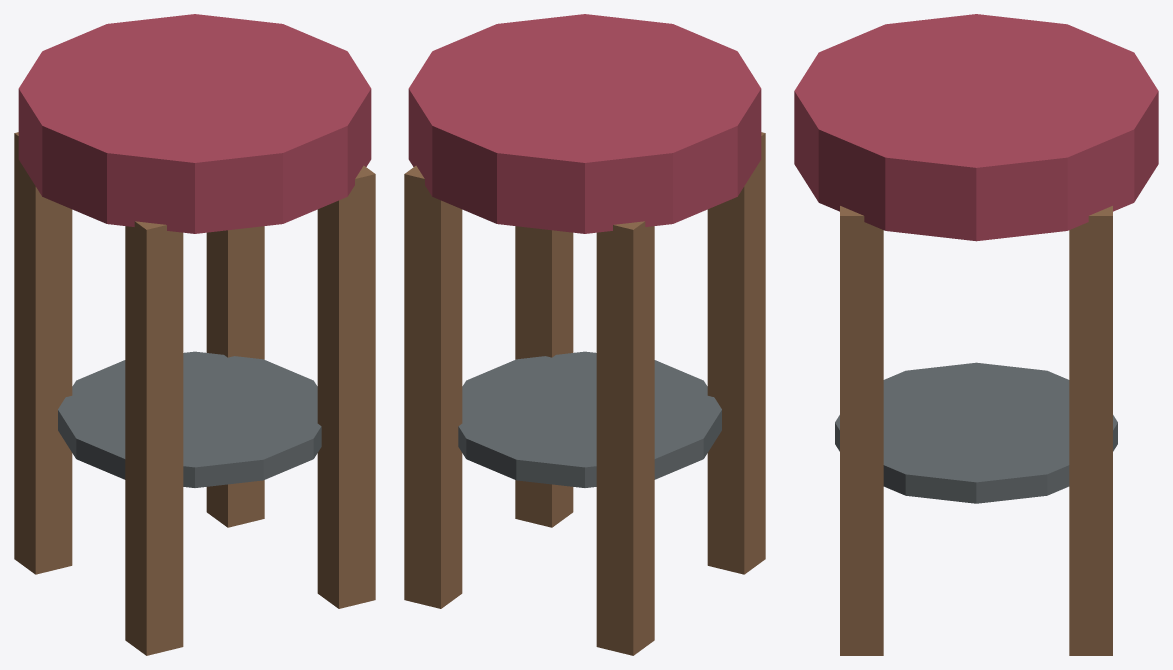
File: stool.glb
The picture shows the model from 3 angles, left to right: view 1: azimuth 30°, elevation 25°; view 2: azimuth 150°, elevation 25°; view 3: azimuth 270°, elevation 25°; orthographic projection. The views are drawn at different scales.
Visible parts, largest first — view 1: Seat, Leg, Leg.002, Leg.001, Foot_Ring, Leg.003; view 2: Seat, Leg.001, Leg.003, Leg, Foot_Ring, Leg.002; view 3: Seat, Foot_Ring, Leg.002, Leg.003.
Boxes of the visible parts, x1,y1,x2,y2 form: Seat: [18, 14, 371, 233]; Leg: [125, 221, 183, 655]; Leg.002: [317, 165, 375, 608]; Leg.001: [14, 132, 72, 574]; Foot_Ring: [58, 351, 321, 487]; Leg.003: [206, 226, 264, 527]; Seat: [408, 14, 761, 233]; Leg.001: [596, 221, 654, 655]; Leg.003: [404, 165, 462, 608]; Leg: [707, 132, 765, 574]; Foot_Ring: [458, 351, 721, 487]; Leg.002: [515, 226, 573, 527]; Seat: [794, 14, 1158, 241]; Foot_Ring: [835, 362, 1117, 503]; Leg.002: [840, 206, 883, 655]; Leg.003: [1069, 206, 1112, 655].
Bounding box in the file's own units: 0.54 × 0.83 × 0.54.
